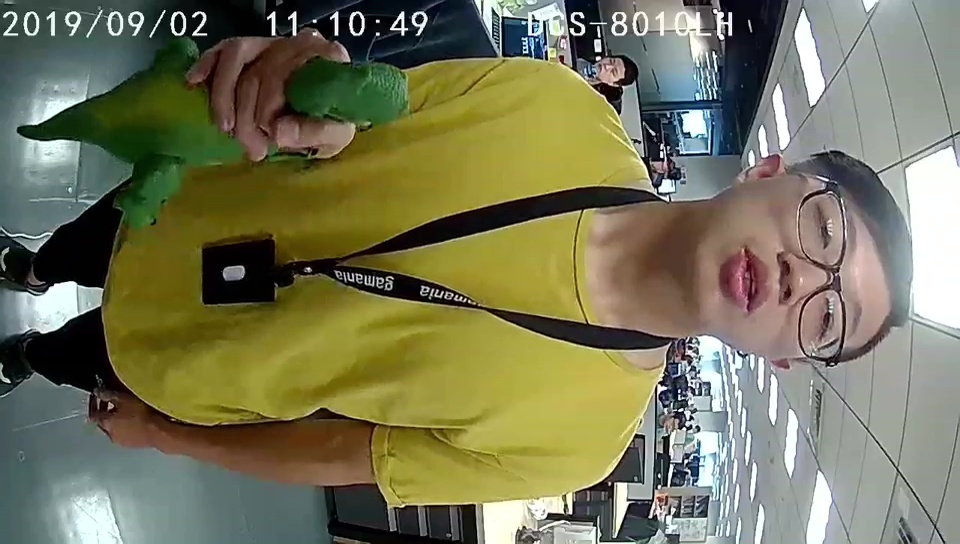rex: (116, 53, 411, 231)
